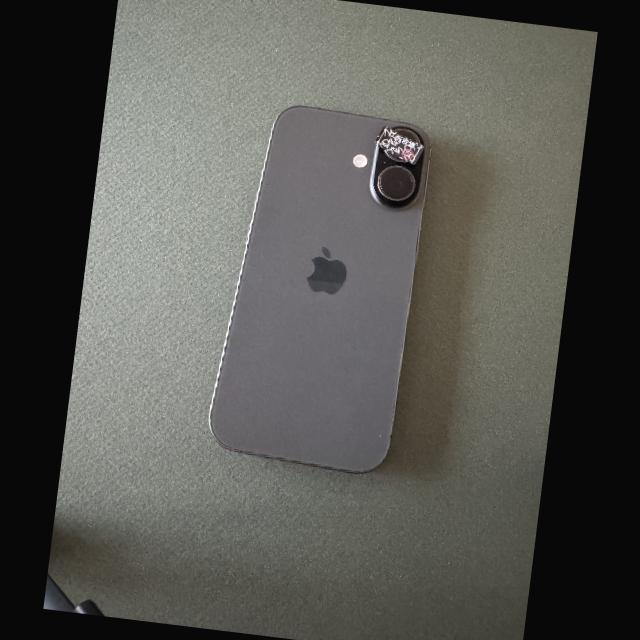lens: (378, 167, 413, 200), (396, 131, 417, 144)
phone: (209, 105, 431, 473)
sticker: (375, 126, 424, 165)
